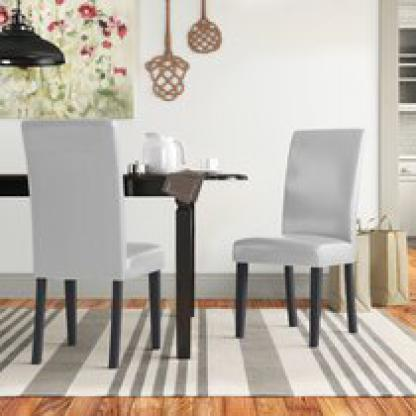chair: (10, 107, 168, 374), (222, 120, 381, 354)
light: (0, 0, 71, 80)
table: (0, 153, 247, 364)
